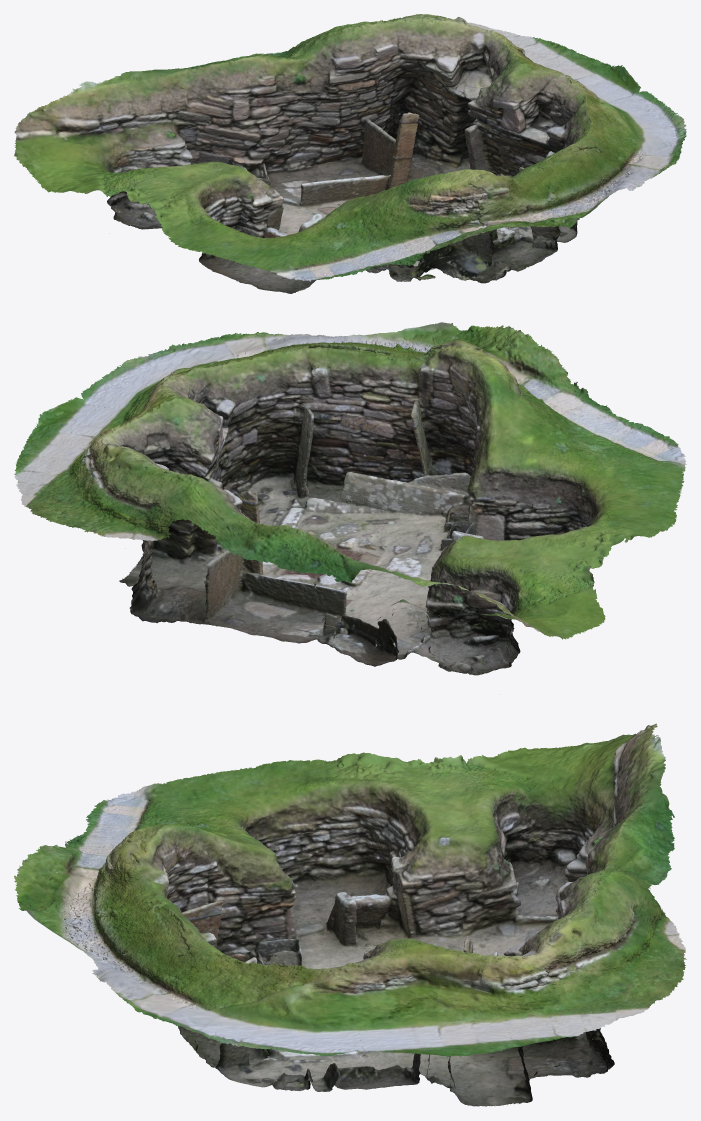
Rendered from skara-brae.glb.
3 renders of one model, top to bottom at view 1: azimuth 30°, elevation 25°; view 2: azimuth 150°, elevation 25°; view 3: azimuth 270°, elevation 25°, orthographic. The views are drawn at different scales.
Visible parts, largest first — view 1: Node; view 2: Node; view 3: Node.
Part boxes in pixels (x1,y1,x2,y2): Node: (14,14,686,293); Node: (14,322,686,675); Node: (14,723,686,1106).
Size of the model in its own units: 48.19 by 11.77 by 41.02.
Materials: 1 (1 with a texture image).
